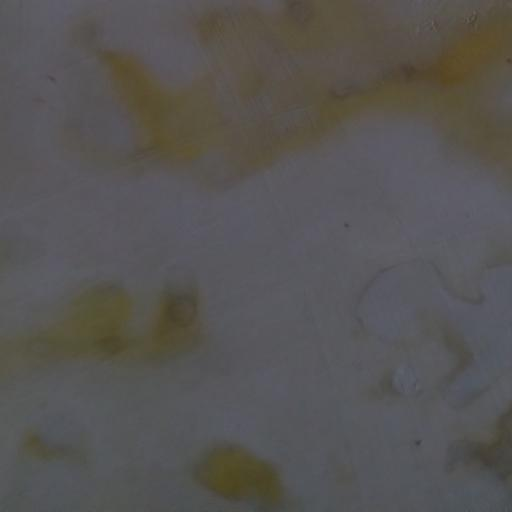algae: (0, 198, 324, 496)
